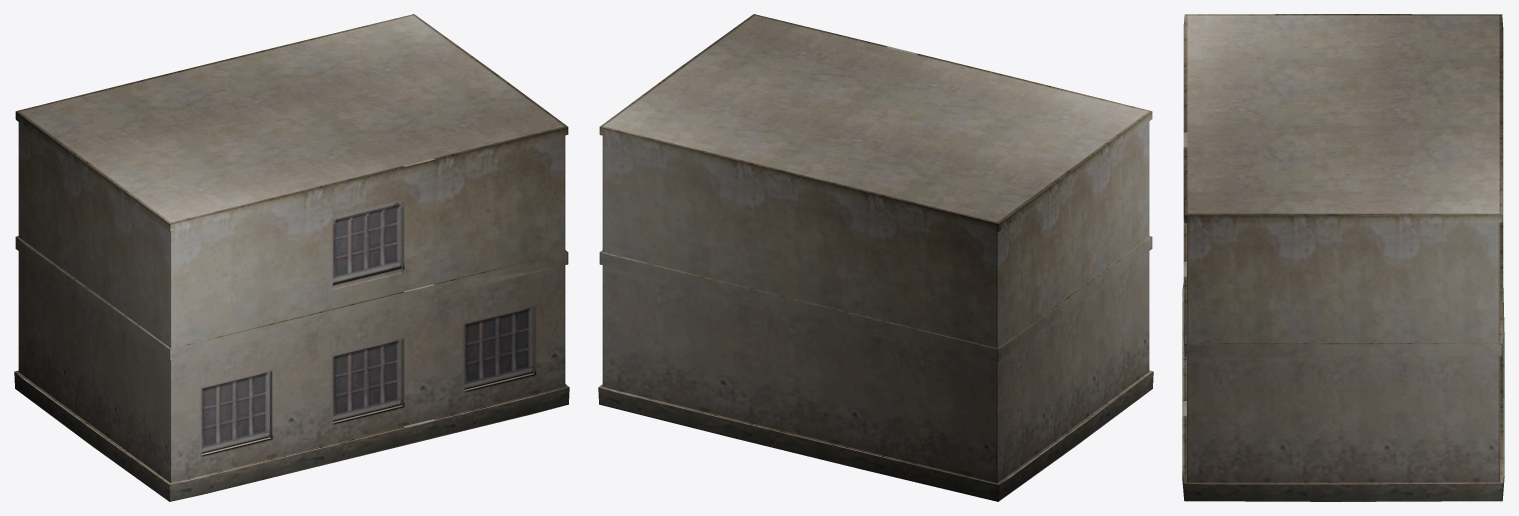
The model's file is hause_01.FBX.
3 renders of one model, left to right at view 1: azimuth 30°, elevation 25°; view 2: azimuth 150°, elevation 25°; view 3: azimuth 270°, elevation 25°, orthographic. The views are drawn at different scales.
Visible parts, largest first — view 1: Box001; view 2: Box001; view 3: Box001.
Boxes of the visible parts, bbox=[...] form: Box001: bbox=[14, 14, 569, 501]; Box001: bbox=[598, 14, 1153, 501]; Box001: bbox=[1182, 14, 1504, 501].
Size of the model in its own units: 153 by 102 by 103.
1 material, 1 textured.
